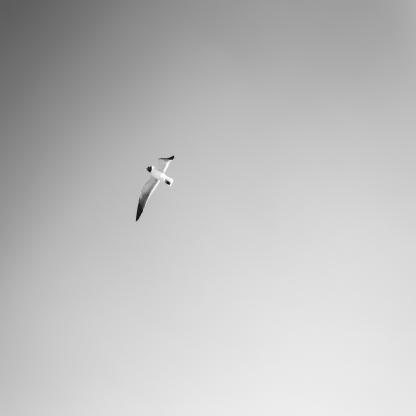bird: (136, 155, 174, 223)
